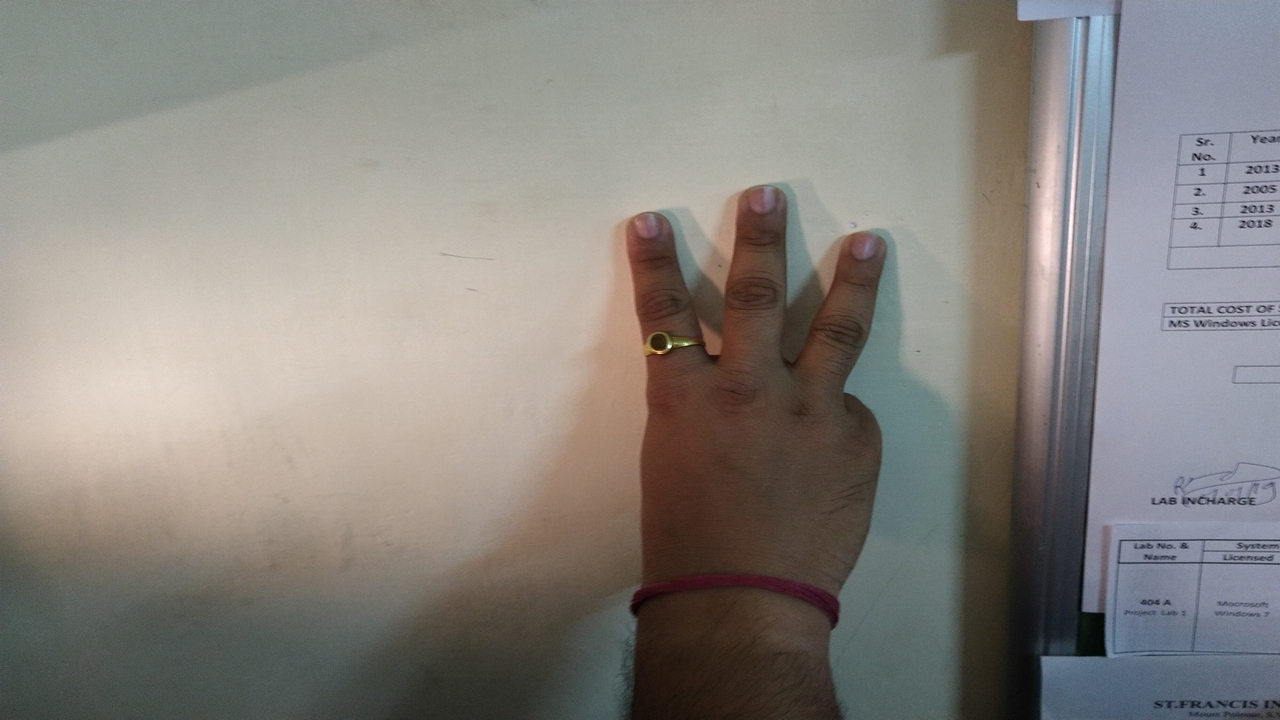fingertip: (732, 180, 792, 238), (622, 204, 682, 258), (834, 228, 896, 280)
